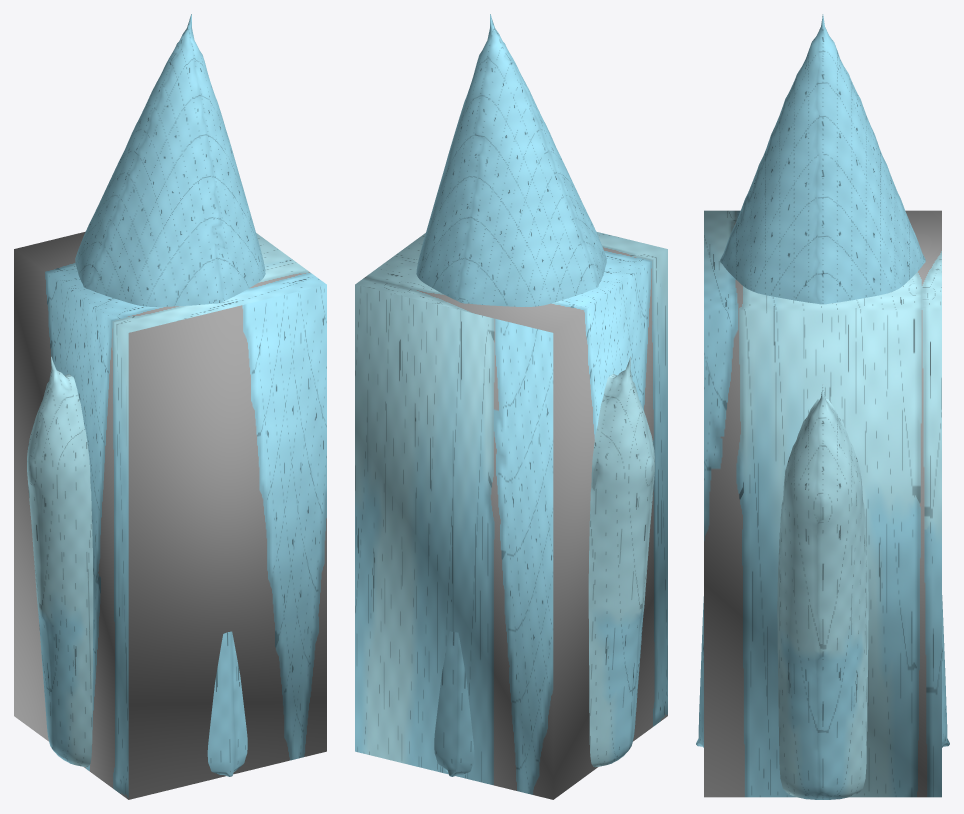
The model's file is landmark_crystal.glb.
3 renders of one model, left to right at view 1: azimuth 30°, elevation 25°; view 2: azimuth 150°, elevation 25°; view 3: azimuth 270°, elevation 25°, orthographic. The views are drawn at different scales.
Visible parts, largest first — view 1: col, lod0; view 2: col, lod0; view 3: col, lod0.
Part boxes in pixels (left/top/right/bottom): col: left=14, top=231, right=326, bottom=799; lod0: left=27, top=14, right=265, bottom=776; col: left=355, top=231, right=667, bottom=799; lod0: left=416, top=14, right=654, bottom=776; col: left=704, top=210, right=941, bottom=797; lod0: left=696, top=14, right=949, bottom=799.
Size of what is drawn, in the model's own units: 5.67 by 13.79 by 4.26.
Materials: 1 (1 with a texture image).
